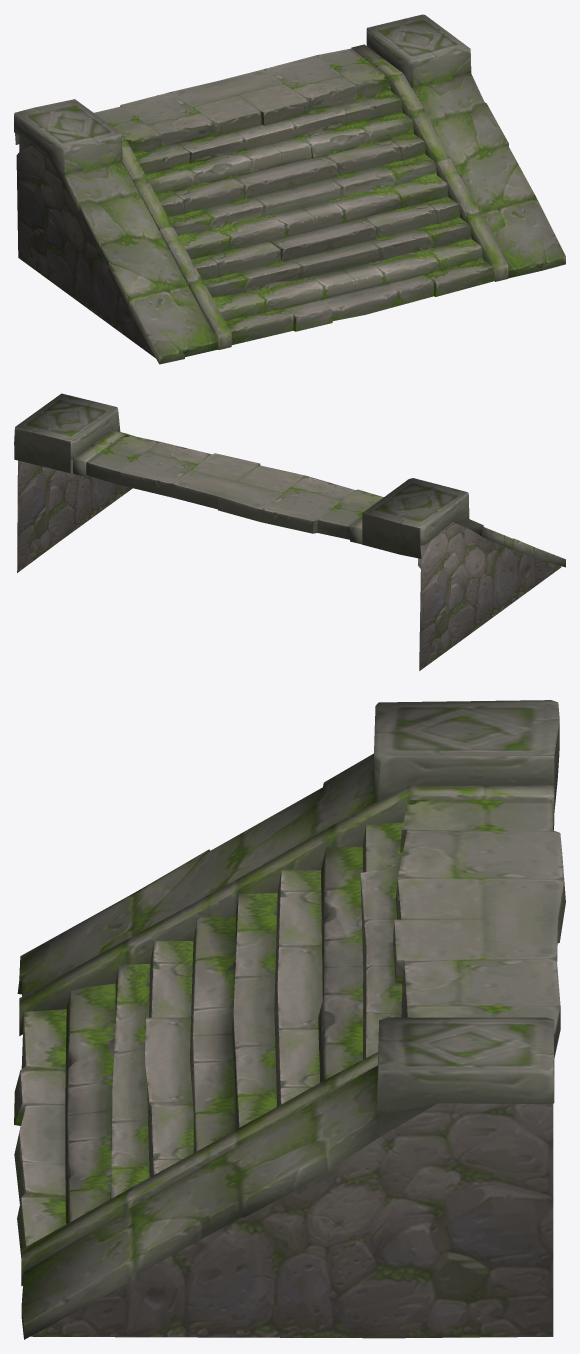
The model's file is shrine_wj003_01.FBX.
3 renders of one model, top to bottom at view 1: azimuth 30°, elevation 25°; view 2: azimuth 150°, elevation 25°; view 3: azimuth 270°, elevation 25°, orthographic. The views are drawn at different scales.
Visible parts, largest first — view 1: shrine_wj003_01; view 2: shrine_wj003_01; view 3: shrine_wj003_01.
Boxes of the visible parts, bbox=[...] form: shrine_wj003_01: bbox=[14, 14, 565, 364]; shrine_wj003_01: bbox=[14, 393, 565, 670]; shrine_wj003_01: bbox=[14, 700, 565, 1339].
Size of the model in its own units: 851 by 287 by 533.
